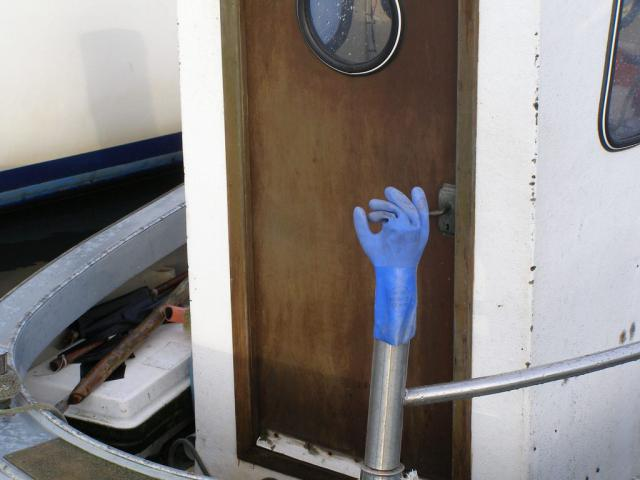Door-handle: (424, 183, 458, 233)
